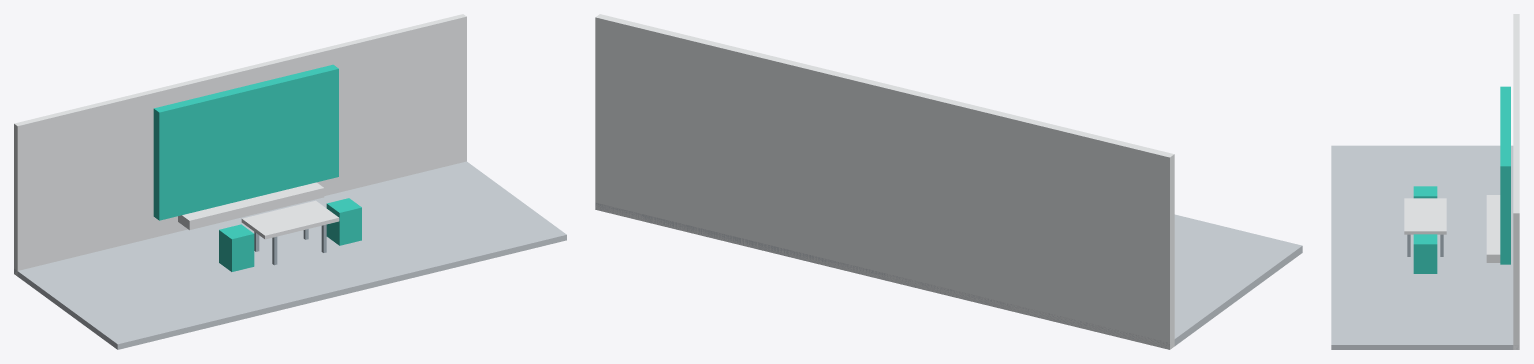
3 renders of one model, left to right at view 1: azimuth 30°, elevation 25°; view 2: azimuth 150°, elevation 25°; view 3: azimuth 270°, elevation 25°, orthographic. The views are drawn at different scales.
Visible parts, largest first — view 1: Exhibition Booth Concept; view 2: Exhibition Booth Concept; view 3: Exhibition Booth Concept.
Part boxes in pixels (box(x1,y1,x2,y2)): Exhibition Booth Concept: box(14, 14, 566, 349); Exhibition Booth Concept: box(595, 14, 1302, 349); Exhibition Booth Concept: box(1331, 14, 1519, 349).
Bounding box in the file's own units: 10 × 3.2 × 4.
